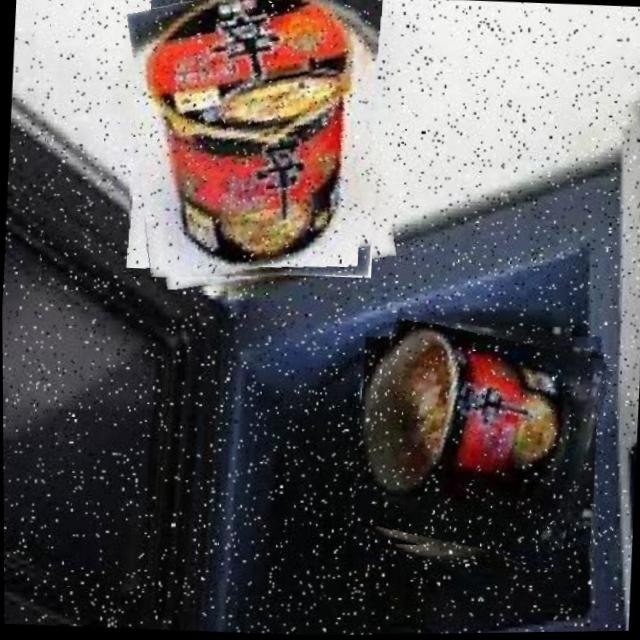Miscellaneous: (124, 0, 398, 292), (350, 318, 606, 576)
